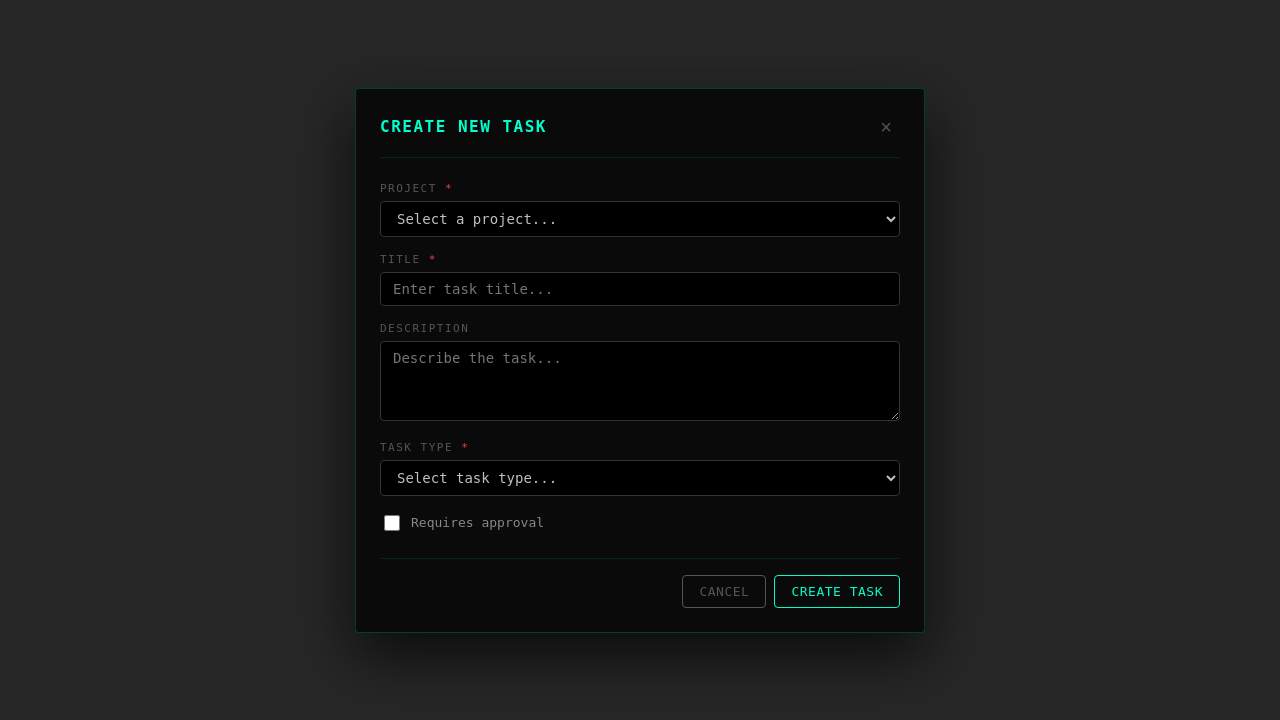
CreateTaskForm › Form Validation › shows error when submitting without a project
Note: Fill title and type but not project
Type "Test Task" into the field with test id "create-task-title-input" at point(640, 288), box [380,272,900,306]
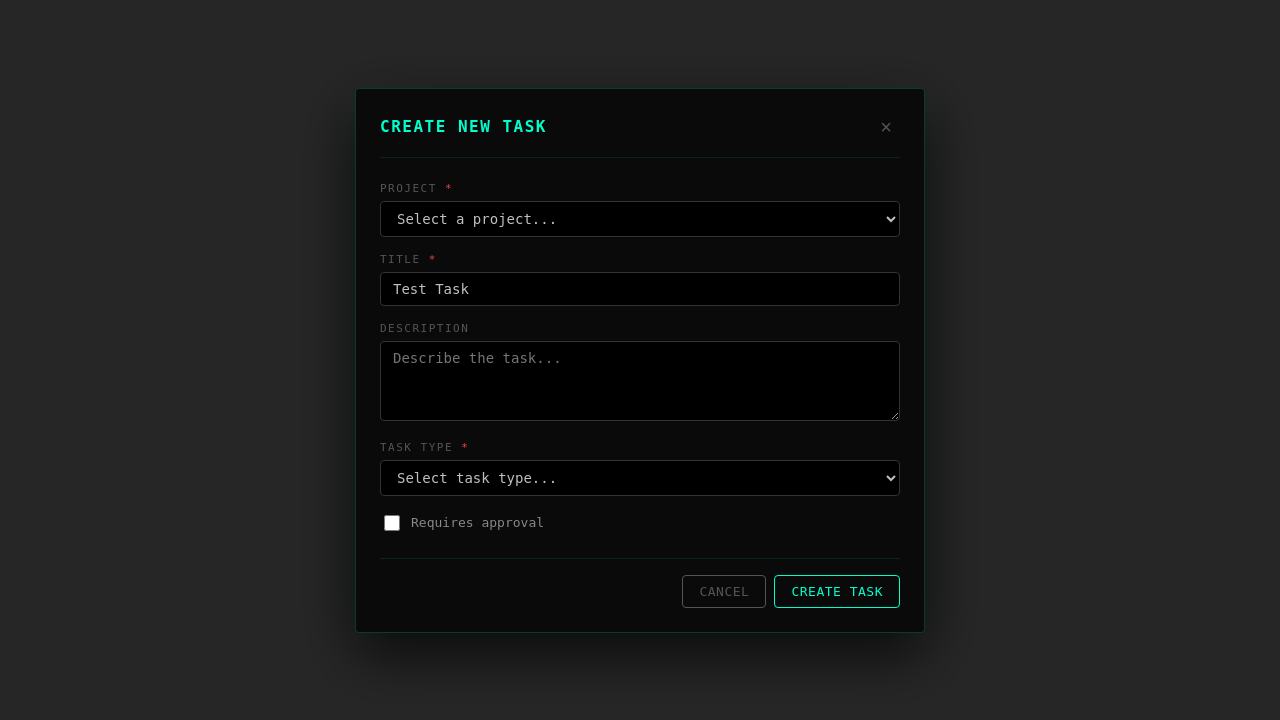
Select "Implementation" in the dropdown with test id "create-task-type" at point(640, 478), box [380,460,900,496]
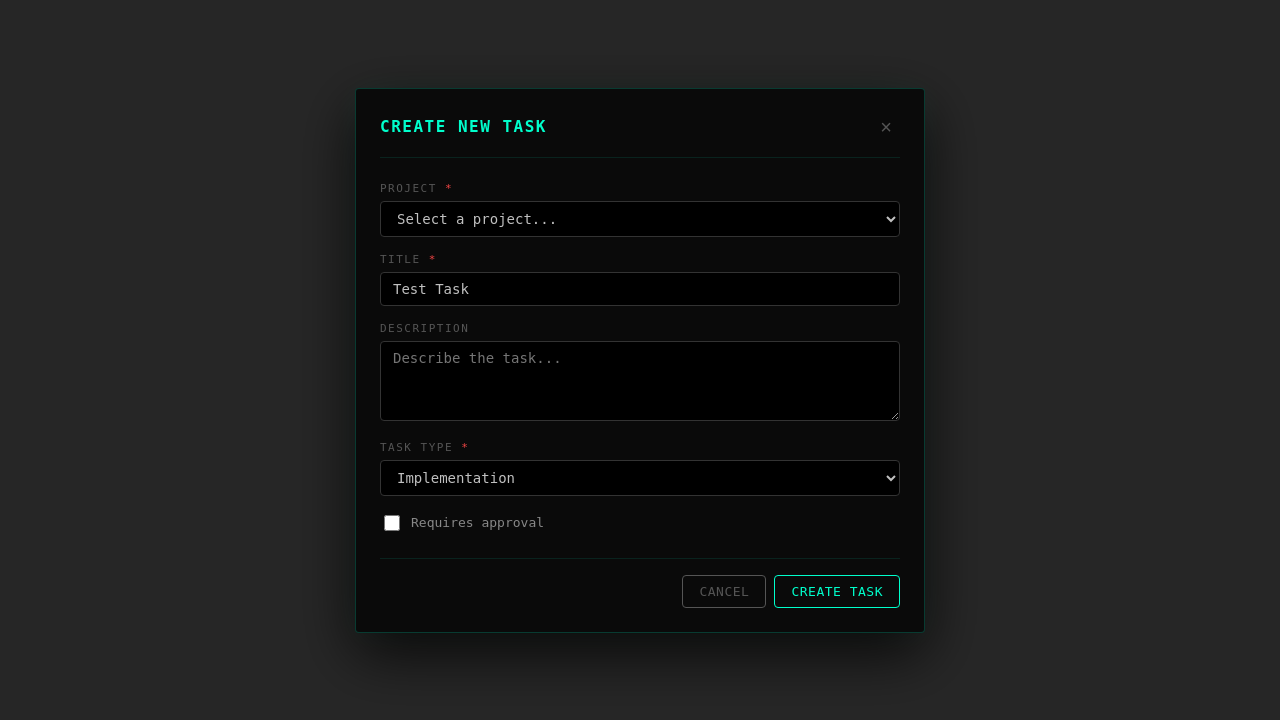
Click the button with test id "create-task-submit" at point(837, 591), box [774,574,900,608]
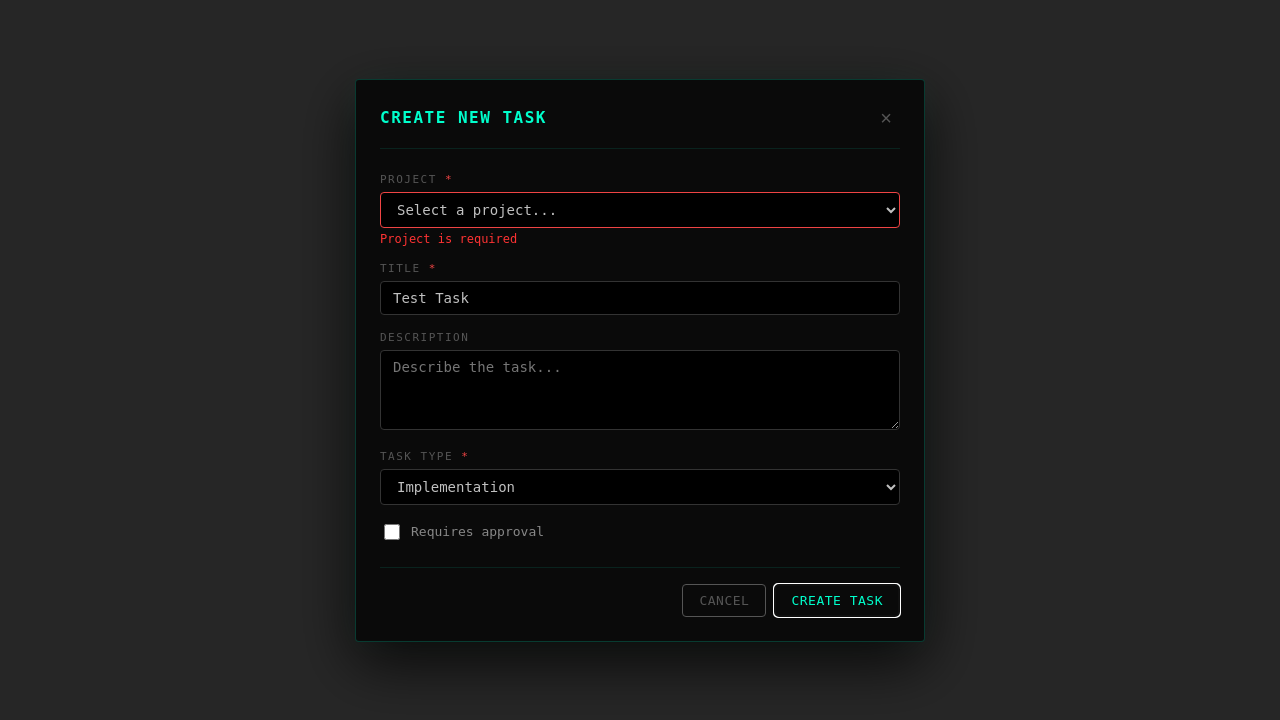
Now the text with test id "error-project" reads "Project is required", box [380,232,517,246]
